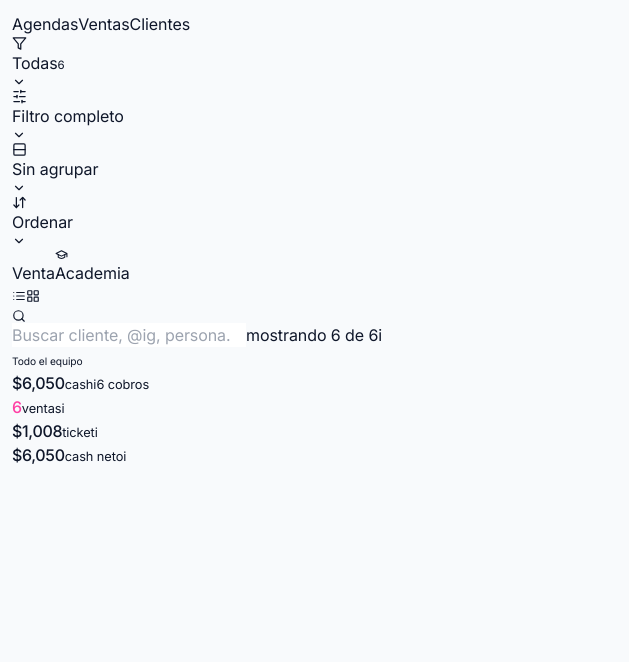
Test: Revisar · Ventas por fuente › se agrupa por fuente, con el subtotal de cada una
Click the button "Sin agrupar".
click(55, 168)  # box top-left (12, 142), bottom-right (98, 195)
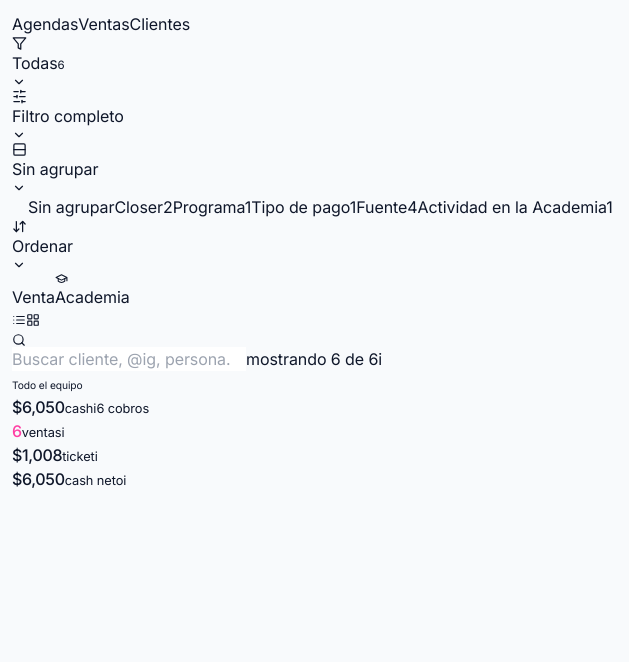
Click the menu item "Fuente4".
click(387, 207)  # box top-left (356, 195), bottom-right (418, 219)
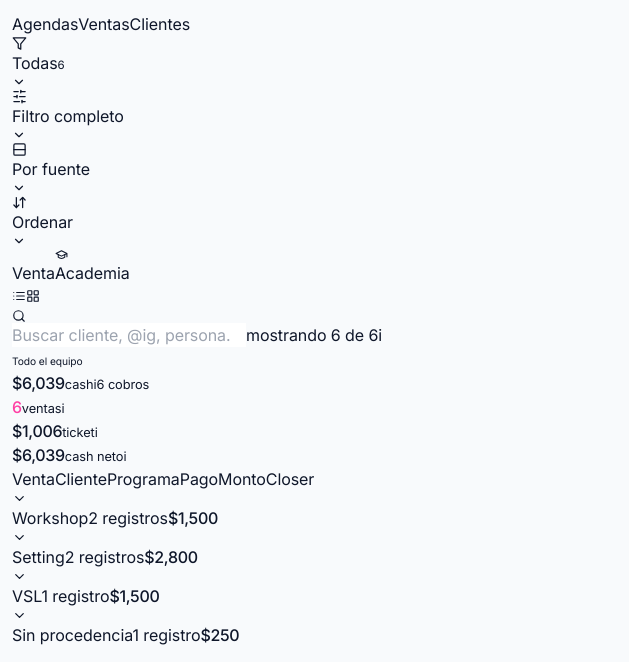
Expected: the button "Por fuente" is shown, top-left (12, 142), bottom-right (90, 195)
